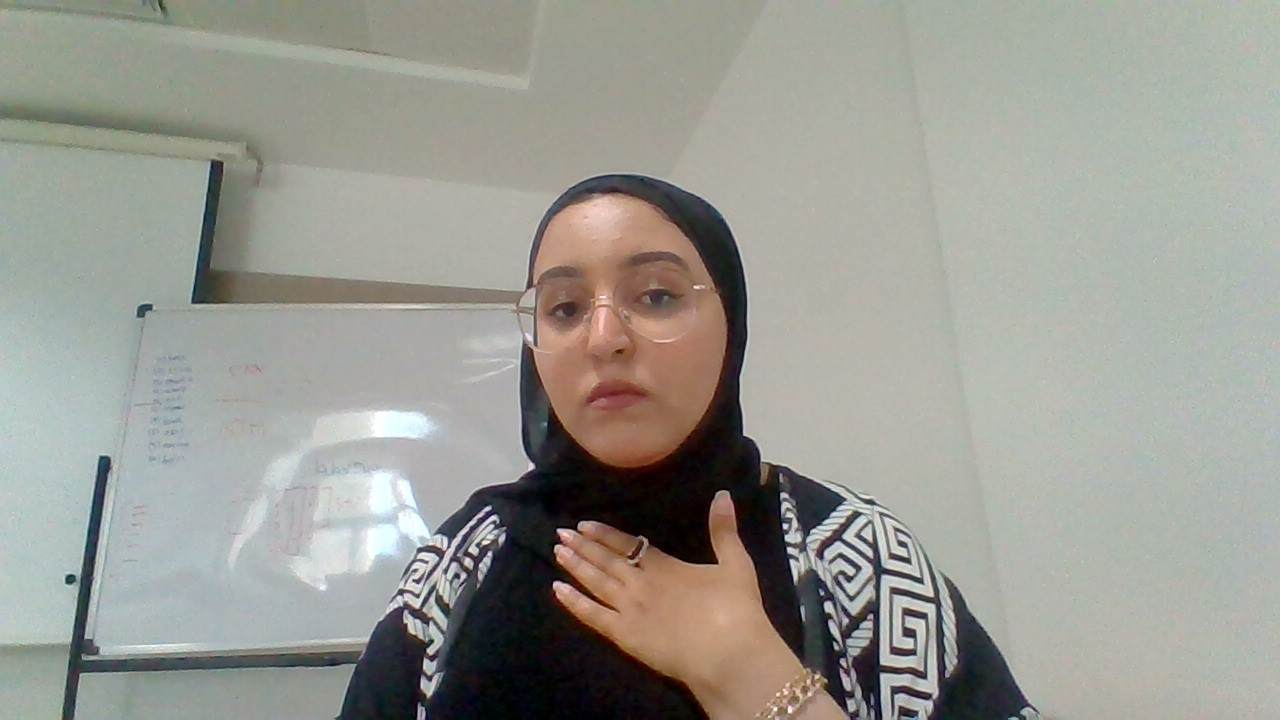please: (536, 484, 778, 684)
